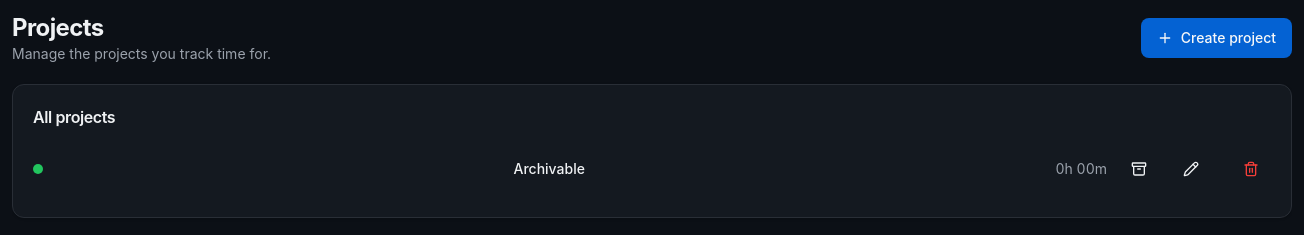
it: ProjectsPage › archives a project and offers to restore it
This screenshot has width=1304, height=235.
Check: the button "Archivable" is shown, box [55, 149, 1044, 189]
What coordinates should you click on to do the following:
click the button named "Archive Archivable"
I would click on:
 (1139, 169)
Its box is [1119, 149, 1159, 189].
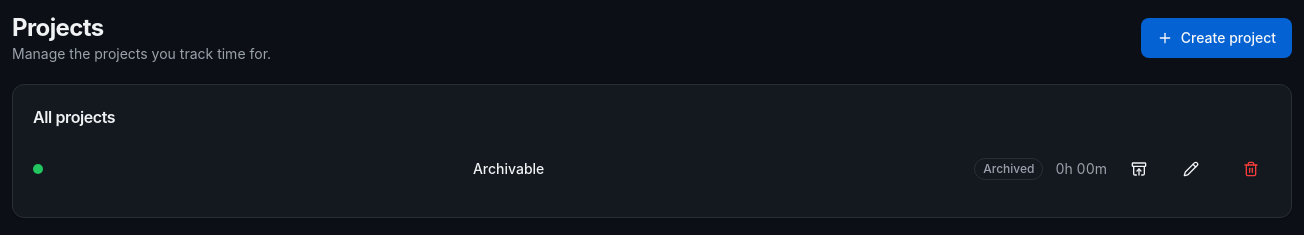
Check: the text "Archived" is shown, box [974, 158, 1043, 180]
What coordinates should you click on to do the following:
click the button named "Unarchive Archivable"
I would click on:
 (1139, 169)
Its box is [1119, 149, 1159, 189].
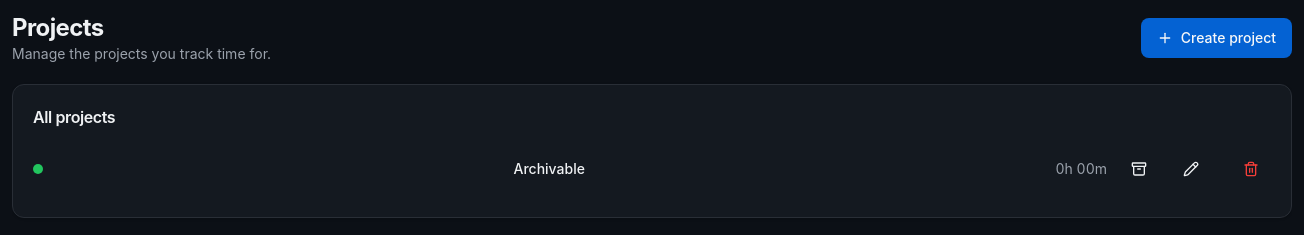
Check: the button "Archivable" is shown, box [55, 149, 1044, 189]
Check: the text "Archived" is gone
